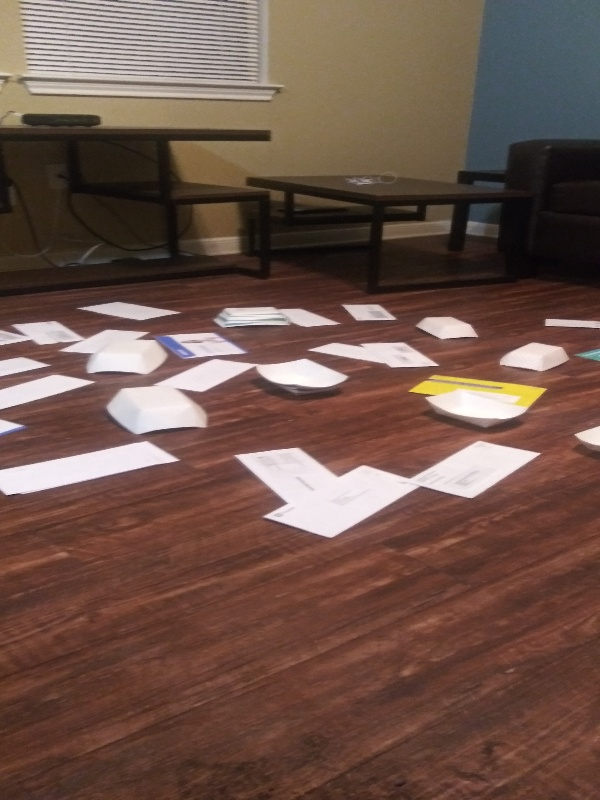plate: (102, 383, 215, 439), (419, 382, 534, 432), (249, 356, 353, 401), (84, 336, 172, 376), (490, 339, 572, 373), (412, 310, 482, 344), (210, 302, 295, 329), (568, 419, 600, 463)
